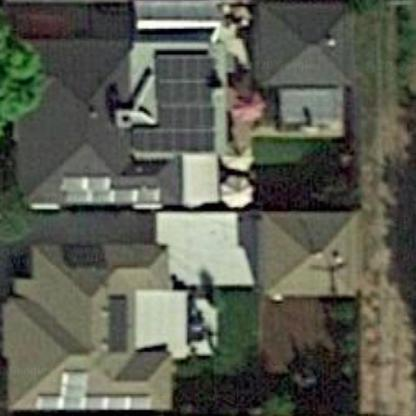solar_panel: (132, 44, 223, 161), (32, 366, 159, 416), (53, 170, 166, 213), (100, 285, 134, 360)
